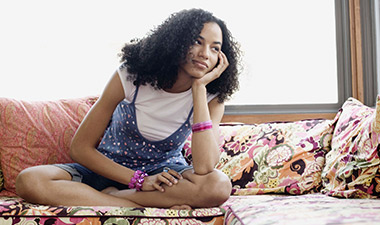NoMask: (187, 34, 222, 77)
